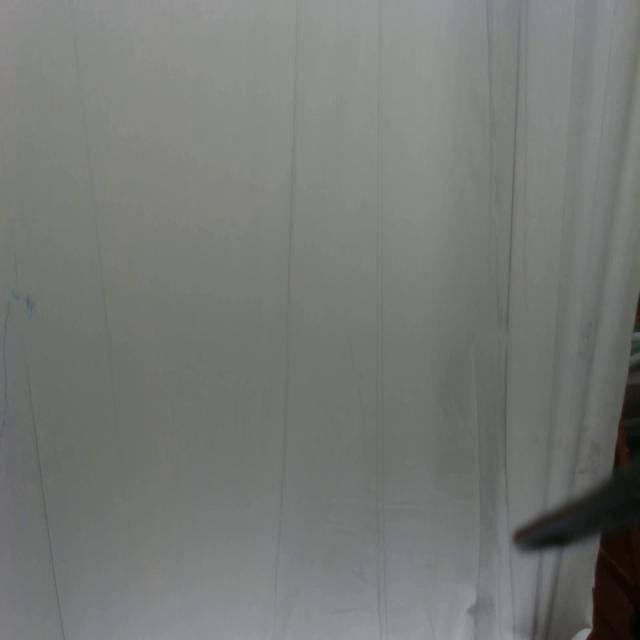crease: (68, 2, 124, 459), (13, 253, 65, 640), (272, 0, 301, 609), (502, 0, 523, 523), (374, 0, 391, 640), (466, 351, 484, 617), (482, 0, 496, 273), (1, 300, 12, 437)
